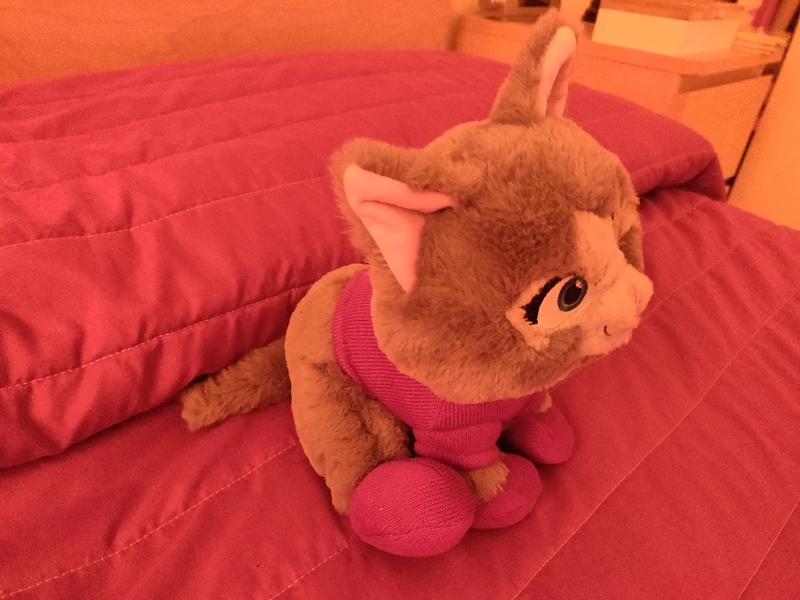kitten: (201, 17, 661, 563)
